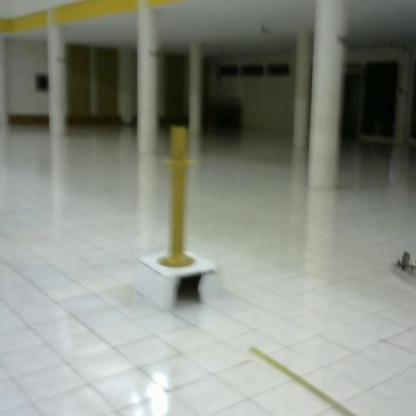pole: (156, 125, 199, 268)
